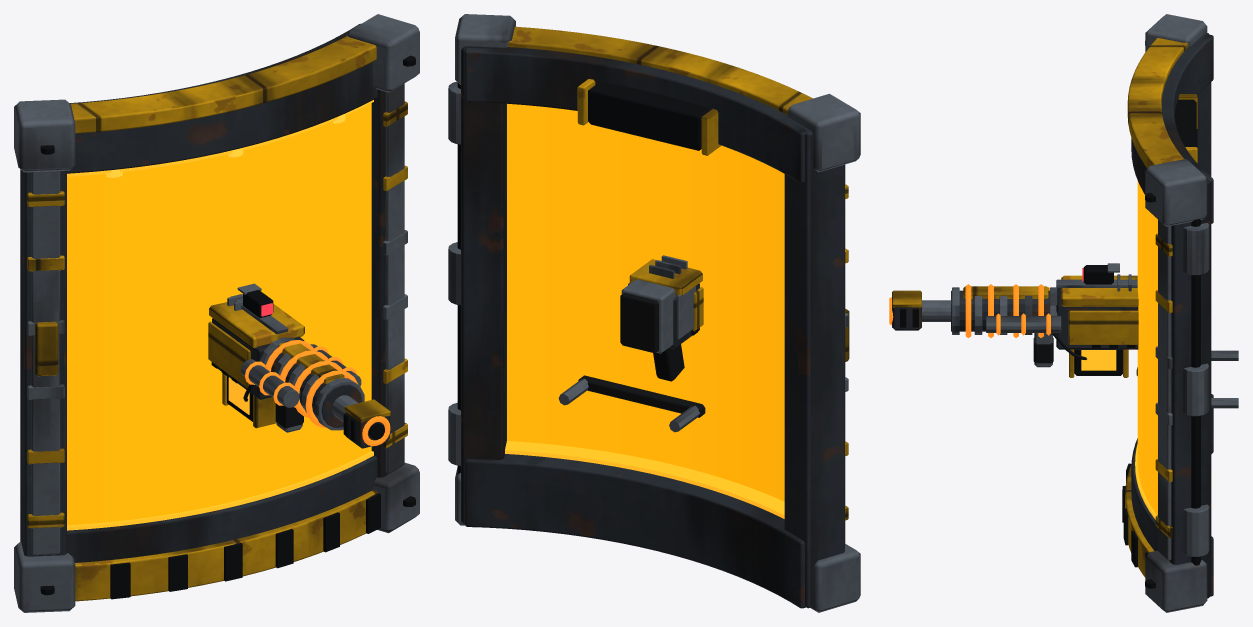
Rendered from end2-char-defender-kit.glb.
3 renders of one model, left to right at view 1: azimuth 30°, elevation 25°; view 2: azimuth 150°, elevation 25°; view 3: azimuth 270°, elevation 25°, orthographic. The views are drawn at different scales.
Visible parts, largest first — view 1: pane, frame_def_gunmetal, frame_def_steel, frame_def_yellow, frame_def_dark, body_def_yellow, body_def_steel, emitters_emit_strip, body_def_gunmetal, cell_def_yellow, barrel_def_yellow, coil_coil_glow (+3 smaller); view 2: pane, frame_def_gunmetal, frame_def_steel, frame_def_yellow, frame_def_dark, emitters_emit_strip, body_def_rubber, body_def_steel, frame_def_rubber, body_def_yellow; view 3: frame_def_steel, frame_def_gunmetal, frame_def_yellow, pane, body_def_yellow, frame_def_dark, body_def_steel, body_def_gunmetal, cell_cell_glow, body_def_dark, barrel_def_steel, cell_def_dark (+3 smaller).
Part boxes in pixels (x1=…): pane: x1=67, y1=103, x2=371, y2=525; frame_def_gunmetal: x1=20, y1=23, x2=404, y2=562; frame_def_steel: x1=14, y1=14, x2=419, y2=612; frame_def_yellow: x1=27, y1=36, x2=407, y2=601; frame_def_dark: x1=40, y1=55, x2=415, y2=599; body_def_yellow: x1=208, y1=302, x2=344, y2=387; body_def_steel: x1=227, y1=283, x2=364, y2=432; emitters_emit_strip: x1=67, y1=100, x2=373, y2=530; body_def_gunmetal: x1=212, y1=318, x2=362, y2=427; cell_def_yellow: x1=222, y1=373, x2=276, y2=428; barrel_def_yellow: x1=344, y1=399, x2=390, y2=423; coil_coil_glow: x1=245, y1=346, x2=356, y2=405; pane: x1=507, y1=103, x2=784, y2=501; frame_def_gunmetal: x1=461, y1=46, x2=844, y2=608; frame_def_steel: x1=448, y1=14, x2=860, y2=612; frame_def_yellow: x1=508, y1=26, x2=849, y2=520; frame_def_dark: x1=457, y1=82, x2=709, y2=473; emitters_emit_strip: x1=505, y1=441, x2=784, y2=518; body_def_rubber: x1=620, y1=293, x2=684, y2=381; body_def_steel: x1=621, y1=255, x2=695, y2=353; frame_def_rubber: x1=578, y1=375, x2=705, y2=417; body_def_yellow: x1=629, y1=259, x2=703, y2=331; frame_def_steel: x1=1145, y1=14, x2=1238, y2=612; frame_def_gunmetal: x1=1131, y1=32, x2=1213, y2=598; frame_def_yellow: x1=1125, y1=38, x2=1197, y2=577; pane: x1=1137, y1=181, x2=1157, y2=515; body_def_yellow: x1=963, y1=275, x2=1138, y2=344; frame_def_dark: x1=1122, y1=41, x2=1200, y2=588; body_def_steel: x1=952, y1=263, x2=1137, y2=367; body_def_gunmetal: x1=951, y1=288, x2=1138, y2=349; cell_cell_glow: x1=1081, y1=350, x2=1116, y2=370; body_def_dark: x1=1083, y1=265, x2=1135, y2=347; barrel_def_steel: x1=922, y1=300, x2=950, y2=321; cell_def_dark: x1=1074, y1=349, x2=1122, y2=375.
Size of the model in its own units: 1.62 by 1.9 by 1.39.
12 materials, 3 textured.
